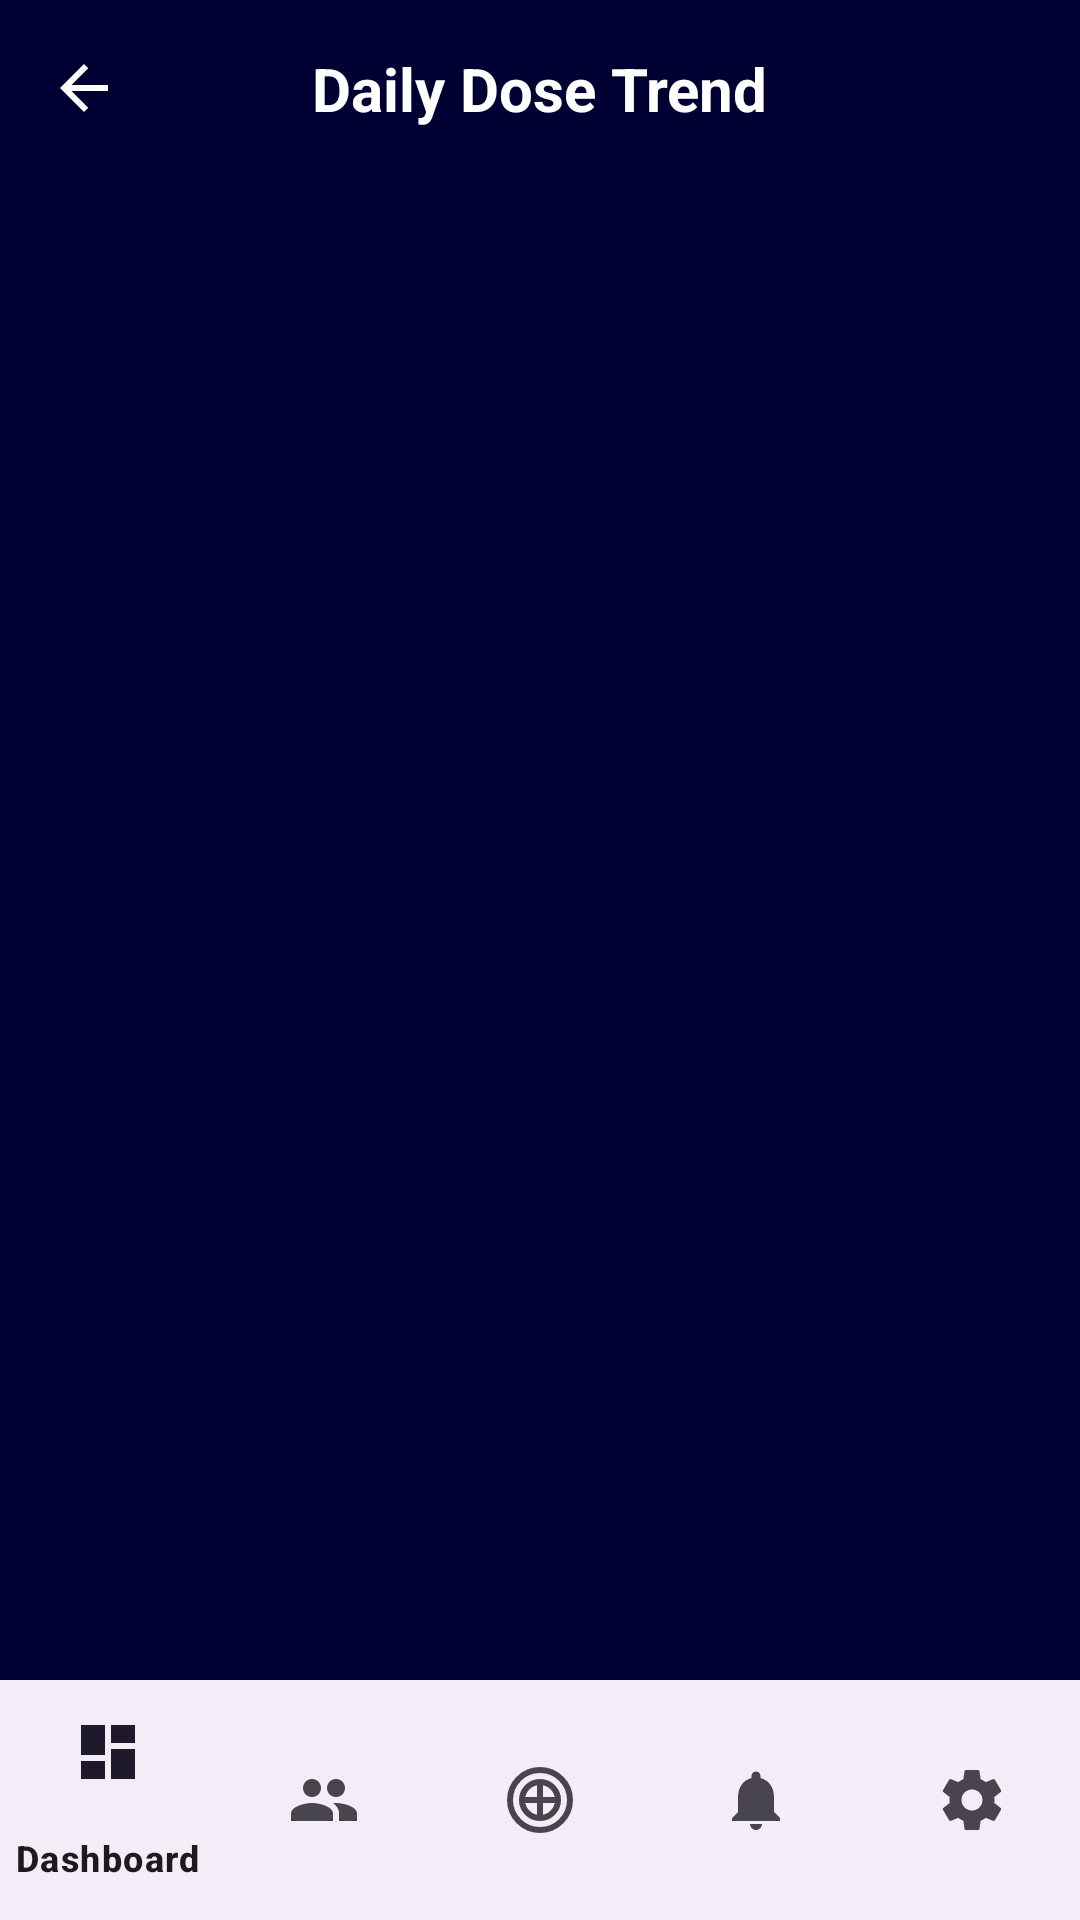

Where to tap for icons on this 1080px x 1920px app screen, as (x,y):
arrow back: (84,88)
